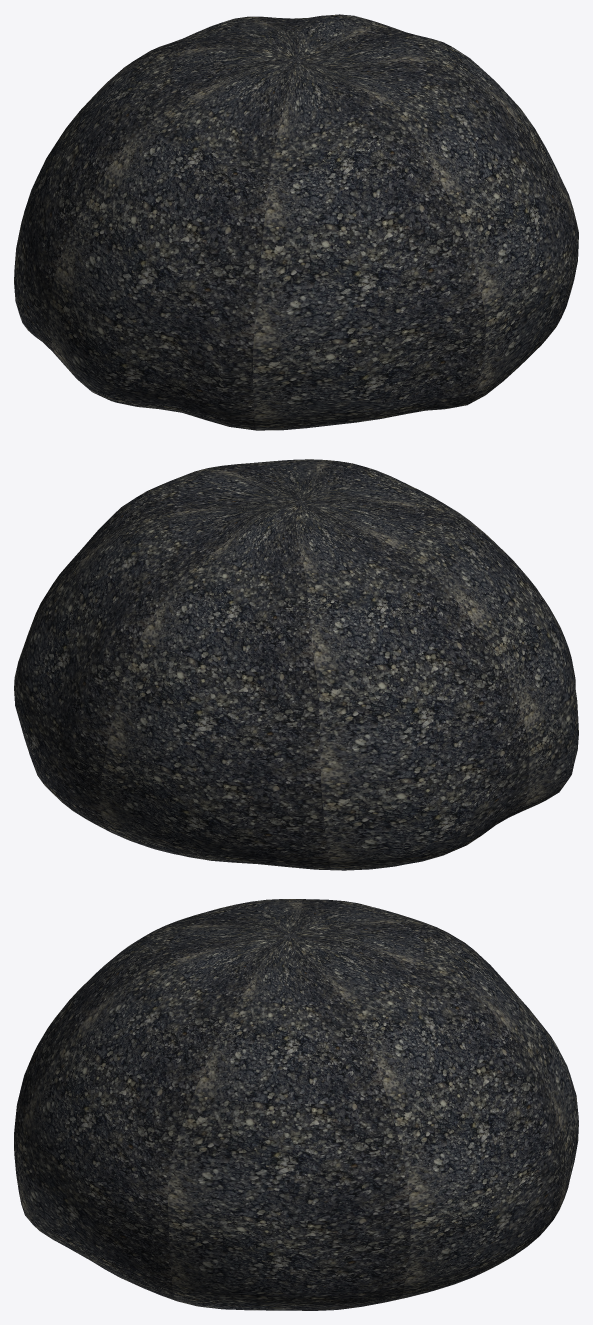
Rendered from asset.glb.
The picture shows the model from 3 angles, top to bottom: view 1: azimuth 30°, elevation 25°; view 2: azimuth 150°, elevation 25°; view 3: azimuth 270°, elevation 25°; orthographic projection.
Parts seen in each view (by area): view 1: 球; view 2: 球; view 3: 球.
Part boxes in pixels (x1,y1,x2,y2): 球: [14, 14, 578, 430]; 球: [14, 459, 578, 870]; 球: [14, 899, 578, 1310].
Bounding box in the file's own units: 2.06 × 1.28 × 2.05.
Materials: 1 (1 with a texture image).
